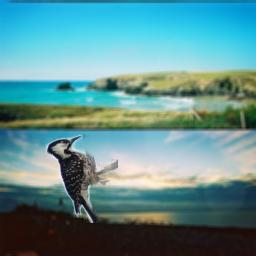Woodpecker: (45, 134, 118, 223)
